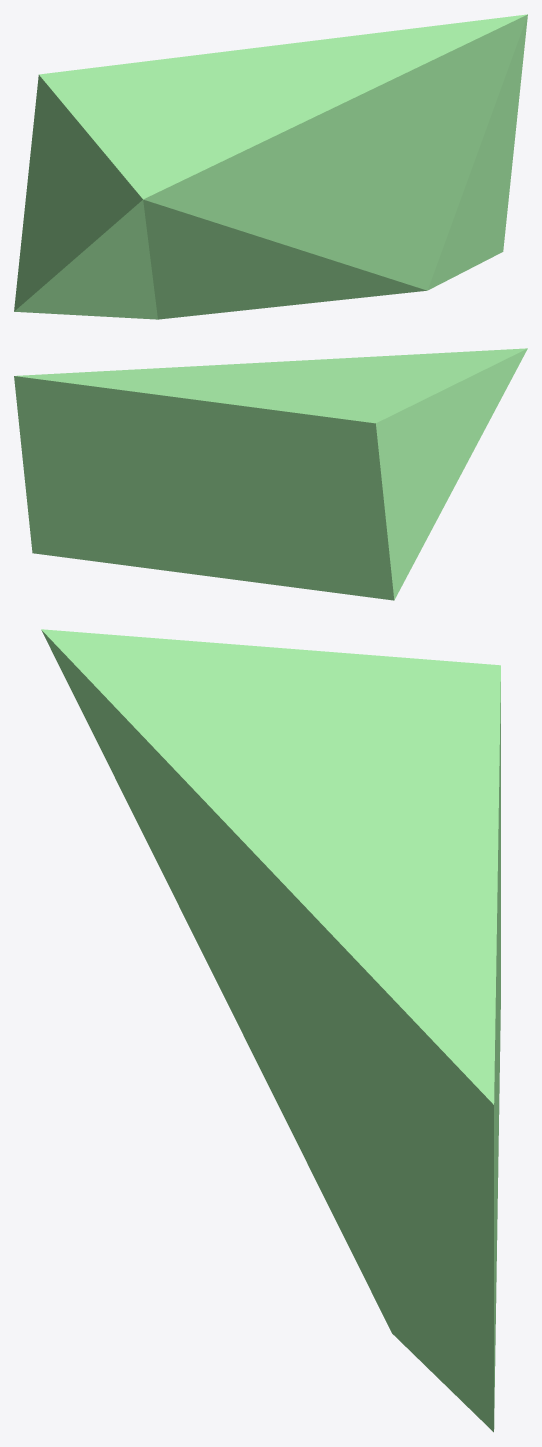
File: UMIRobot_UMIRobot_link_3_convex_coll_20.dae
3 renders of one model, top to bottom at view 1: azimuth 30°, elevation 25°; view 2: azimuth 150°, elevation 25°; view 3: azimuth 270°, elevation 25°, orthographic. The views are drawn at different scales.
Visible parts, largest first — view 1: node; view 2: node; view 3: node.
Part boxes in pixels (x1,y1,x2,y2): node: [14, 14, 527, 319]; node: [14, 348, 527, 600]; node: [41, 629, 500, 1432].
Size of the model in its own units: 0.0241 by 0.0124 by 0.012.
